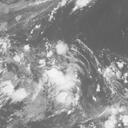cyclone: (27, 47, 81, 105)
